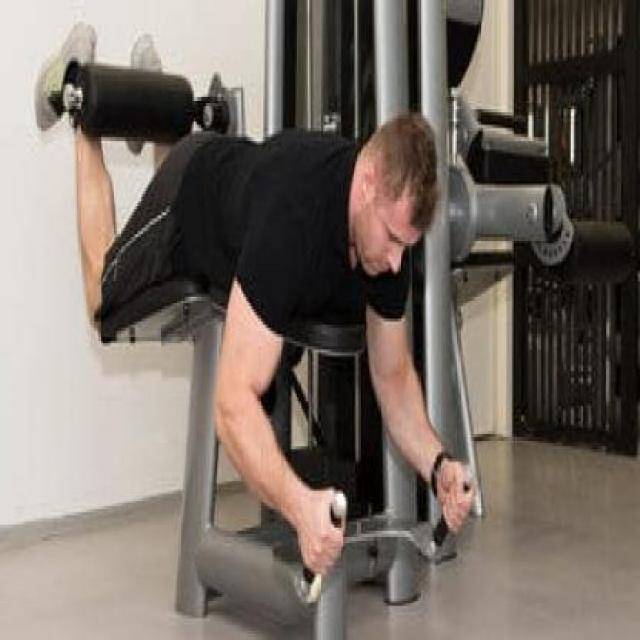reg curl machine: (31, 1, 480, 640)
